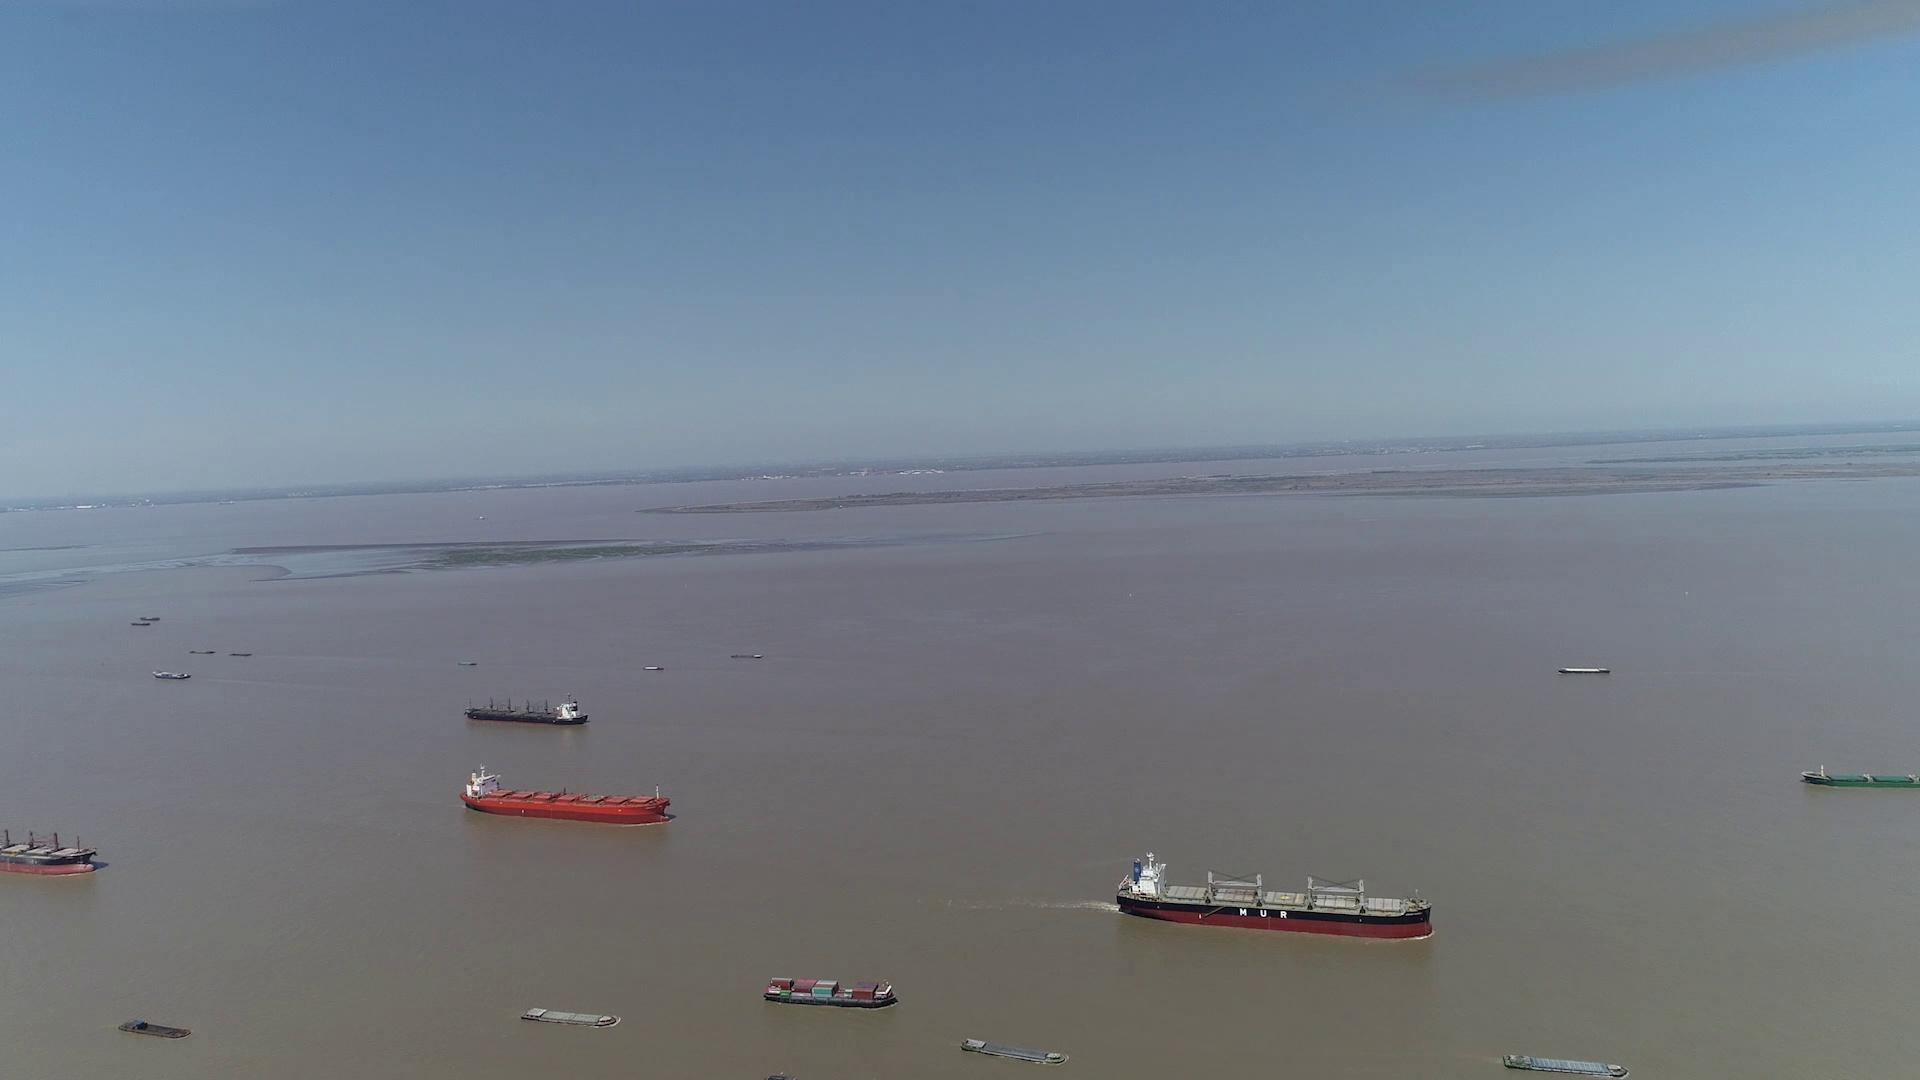ship: (1116, 852, 1432, 943), (460, 762, 667, 823), (1, 816, 100, 876), (762, 976, 897, 1007), (465, 694, 589, 724), (1501, 1051, 1626, 1077), (961, 1036, 1065, 1064), (1801, 765, 1917, 789), (520, 1007, 617, 1029), (120, 1021, 193, 1040), (150, 669, 193, 679), (1557, 667, 1609, 674)
